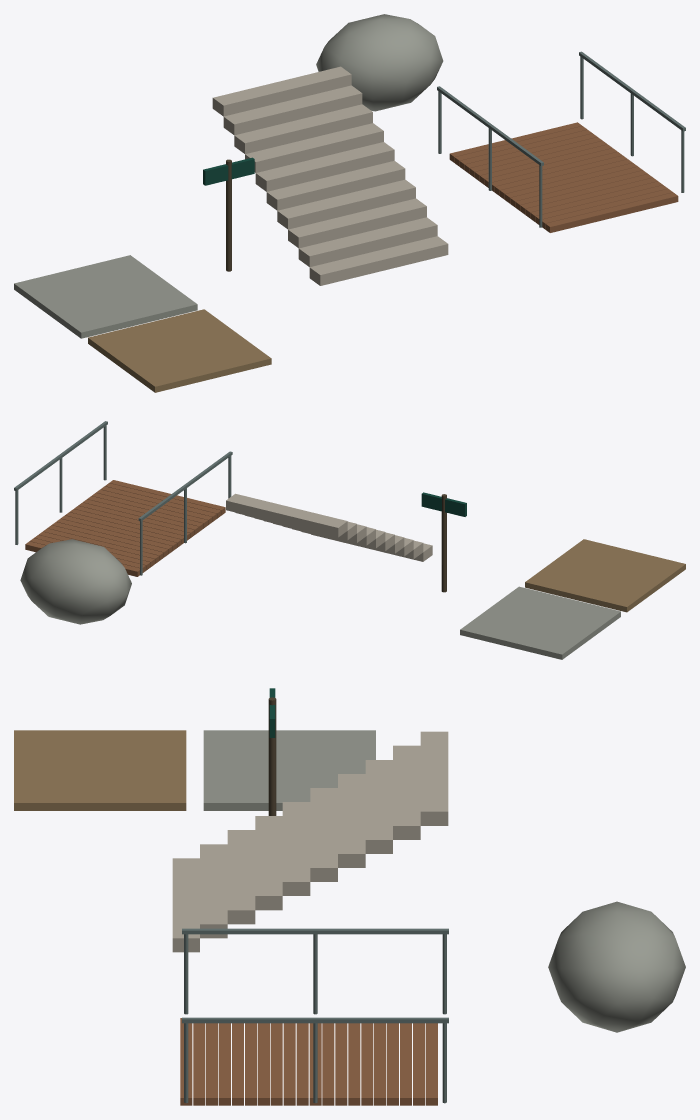
Rendered from scale-kit.glb.
3 views of the same model, one above another, from view 1: azimuth 30°, elevation 25°; view 2: azimuth 150°, elevation 25°; view 3: azimuth 270°, elevation 25° (orthographic). The views are drawn at different scales.
Visible parts, largest first — view 1: deck-plank (×20), soil, rock, reference-rock-2x1.4x1.6, kit-step-9, kit-step-1, kit-step-4, kit-step-5, kit-step-0, kit-step-8, kit-step-2, kit-step-3 (+5 smaller); view 2: deck-plank (×17), reference-rock-2x1.4x1.6, soil, rock, kit-step-9, rail (×2), sign, bark; view 3: deck-plank (×20), soil, reference-rock-2x1.4x1.6, rock, rail (×2), kit-step-2, kit-step-9, kit-step-4, kit-step-3, kit-step-8, kit-step-5, kit-step-6 (+4 smaller).
Part boxes in pixels (box(x1,y1,x2,y2)): deck-plank (×20): box(449, 122, 678, 232); soil: box(88, 309, 271, 392); rock: box(14, 255, 197, 338); reference-rock-2x1.4x1.6: box(316, 14, 443, 111); kit-step-9: box(212, 66, 351, 116); kit-step-1: box(298, 217, 437, 267); kit-step-4: box(266, 161, 405, 210); kit-step-5: box(255, 142, 394, 191); kit-step-0: box(309, 236, 448, 285); kit-step-8: box(223, 85, 362, 135); kit-step-2: box(288, 198, 426, 248); kit-step-3: box(277, 179, 415, 229); deck-plank (×17): box(38, 480, 225, 566); reference-rock-2x1.4x1.6: box(20, 539, 131, 624); soil: box(525, 539, 685, 612); rock: box(460, 586, 620, 659); kit-step-9: box(226, 493, 347, 537); rail (×2): box(14, 421, 232, 521); sign: box(421, 492, 466, 516); bark: box(441, 494, 446, 592); deck-plank (×20): box(180, 1018, 437, 1105); soil: box(14, 730, 186, 810); reference-rock-2x1.4x1.6: box(548, 901, 685, 1032); rock: box(203, 730, 375, 810); rail (×2): box(182, 928, 448, 1023); kit-step-2: box(227, 830, 255, 924); kit-step-9: box(420, 731, 448, 825); kit-step-4: box(282, 802, 310, 895); kit-step-3: box(255, 816, 282, 910); kit-step-8: box(393, 745, 420, 839); kit-step-5: box(310, 788, 337, 881); kit-step-6: box(338, 774, 365, 867).
Bounding box in the file's own units: 10.25 × 1.9 × 7.8.
